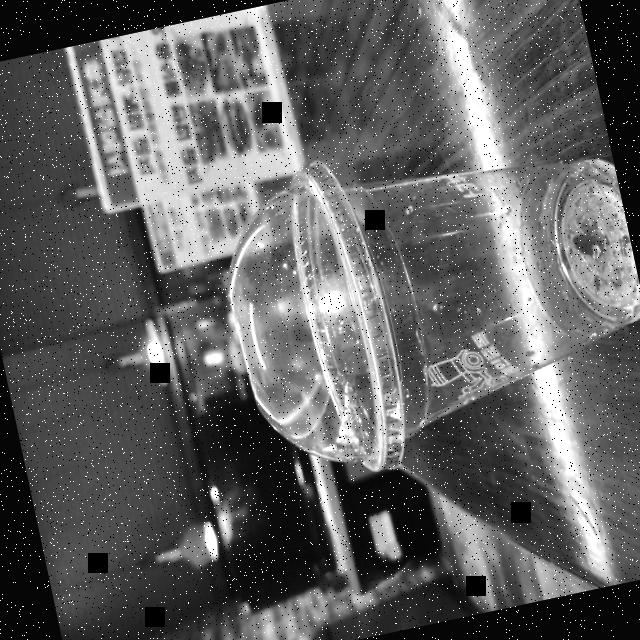plastic_cup_lid: (188, 160, 424, 507)
